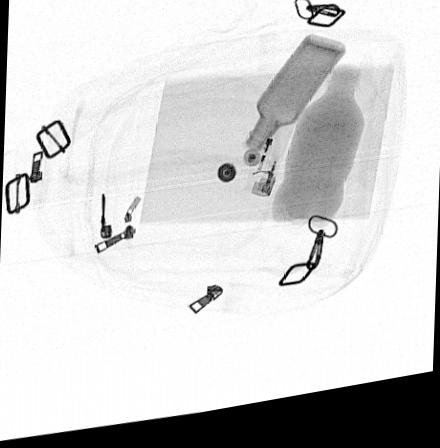Lighter: (242, 124, 297, 206)
